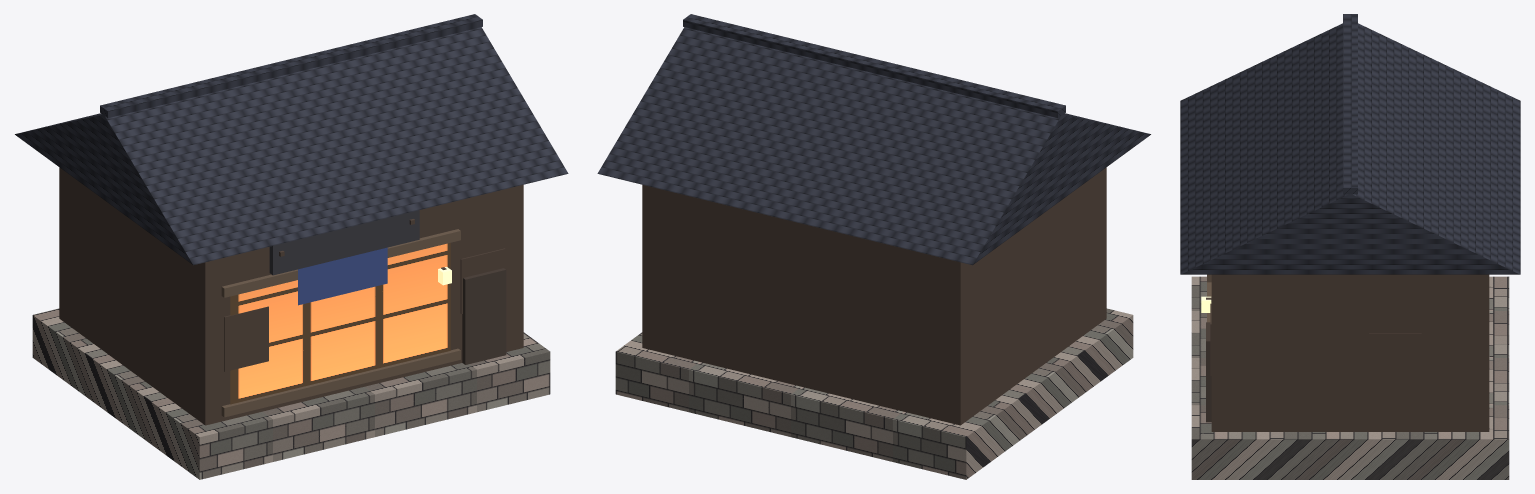
Rendered from cl-shop.glb.
The picture shows the model from 3 angles, left to right: view 1: azimuth 30°, elevation 25°; view 2: azimuth 150°, elevation 25°; view 3: azimuth 270°, elevation 25°; orthographic projection. The views are drawn at different scales.
Visible parts, largest first — view 1: cl_shop; view 2: cl_shop; view 3: cl_shop.
Part boxes in pixels (x1=…): cl_shop: x1=15, y1=14, x2=568, y2=479; cl_shop: x1=597, y1=14, x2=1150, y2=479; cl_shop: x1=1180, y1=14, x2=1520, y2=479.
Bounding box in the file's own units: 9.2 × 7.34 × 7.6.
11 materials, 2 textured.
